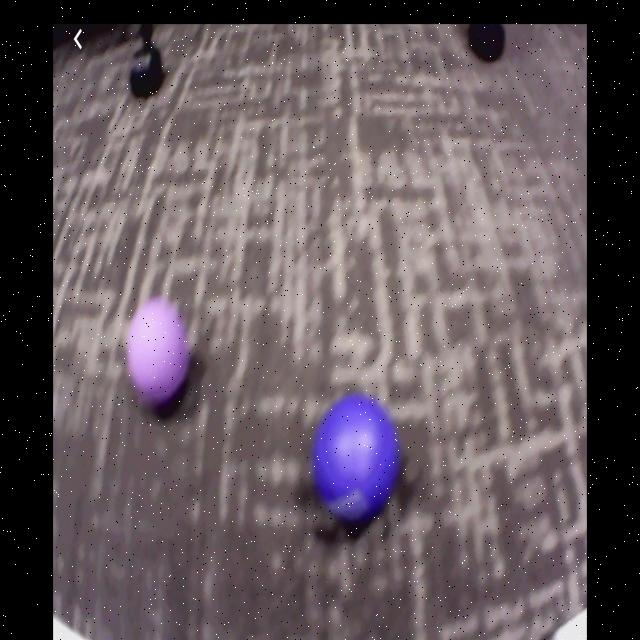ball: (312, 394, 399, 526), (127, 299, 190, 407)
